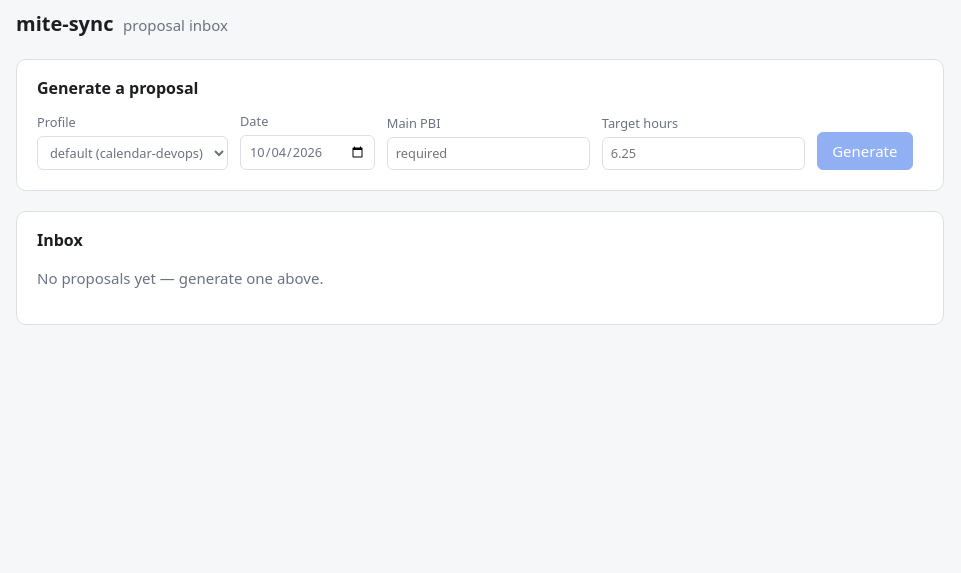
Test: App › shows generation warnings and keeps them across the jump to the detail view
The width and height of the screenshot is (961, 573).
Select "side (git-activity)" in the dropdown labelled "Profile" at (132,153), box [37, 136, 228, 170]
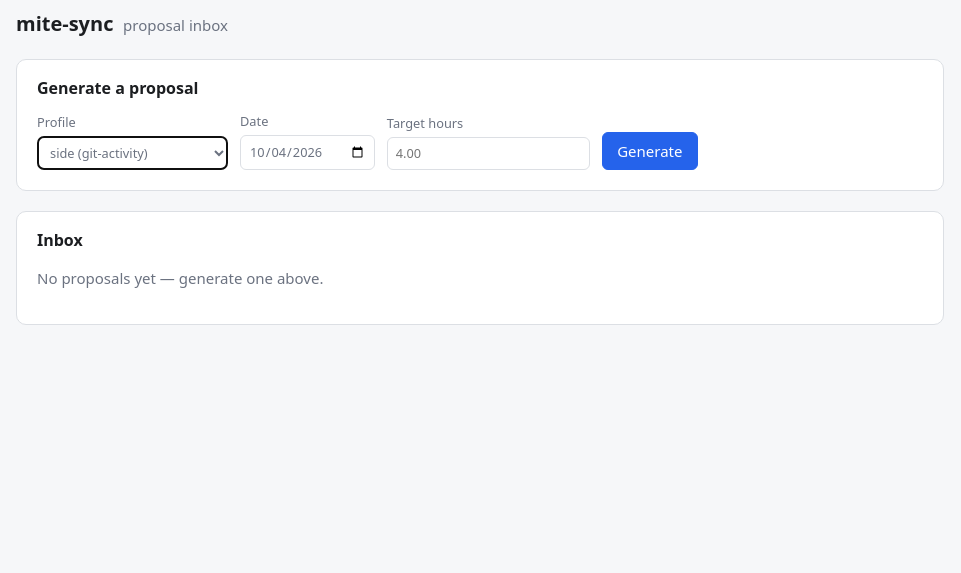
Click the button "Generate".
click(650, 151)  # box [602, 132, 698, 170]
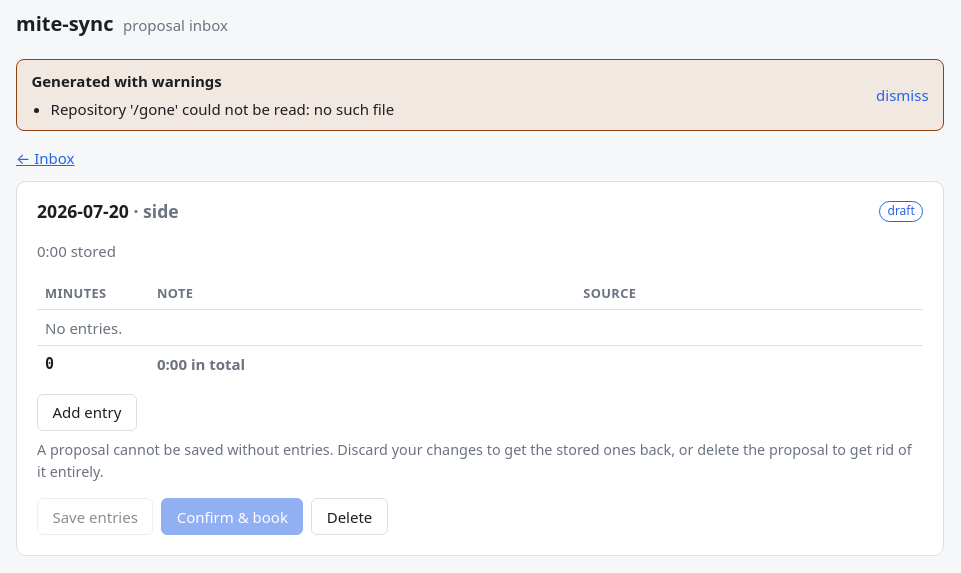
Result: the list item "Repository '/gone' could not be read: no such file" is shown at [51, 98, 394, 120]
Result: the text "No entries." is shown at [37, 310, 923, 346]
